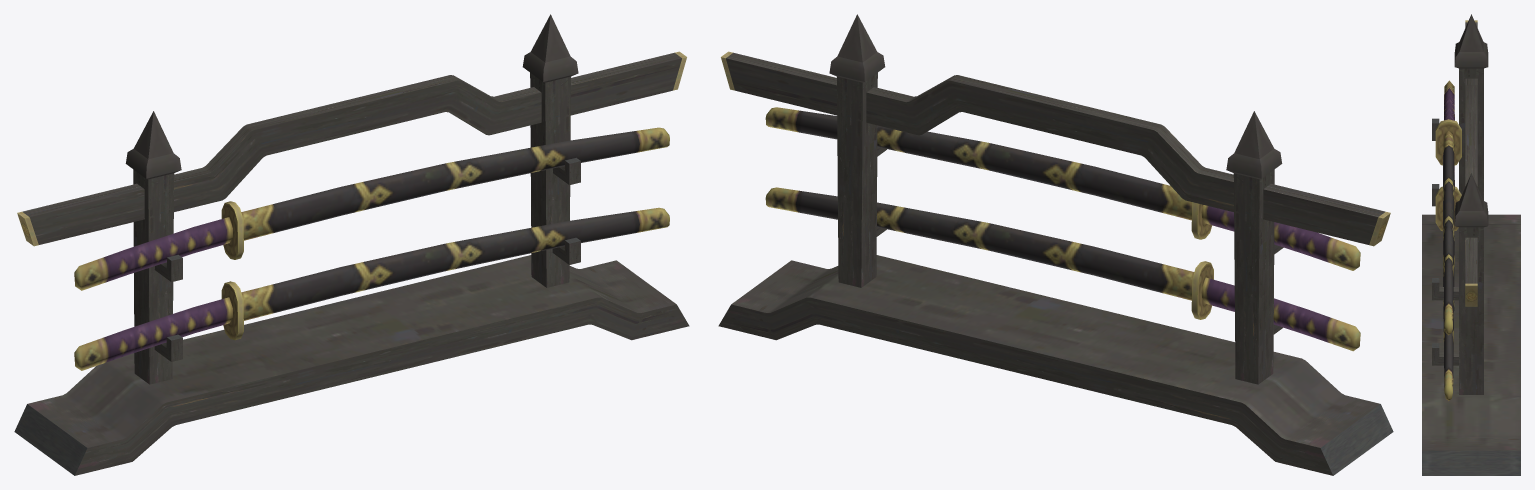
The model's file is Homeworld_Interior_Dq_Decoration_ToolcarrierTS_02_Vo.fbx.
3 renders of one model, left to right at view 1: azimuth 30°, elevation 25°; view 2: azimuth 150°, elevation 25°; view 3: azimuth 270°, elevation 25°, orthographic. The views are drawn at different scales.
Parts seen in each view (by area): view 1: Indoor_Dq_Prop_Comp_Toolcarrier_01_Vo; view 2: Indoor_Dq_Prop_Comp_Toolcarrier_01_Vo; view 3: Indoor_Dq_Prop_Comp_Toolcarrier_01_Vo.
Boxes of the visible parts, <box> form: Indoor_Dq_Prop_Comp_Toolcarrier_01_Vo: <box>14,14,689,475</box>; Indoor_Dq_Prop_Comp_Toolcarrier_01_Vo: <box>718,14,1393,475</box>; Indoor_Dq_Prop_Comp_Toolcarrier_01_Vo: <box>1422,14,1520,475</box>.
Size of the model in its own units: 1.81 by 0.8272 by 0.2854.
